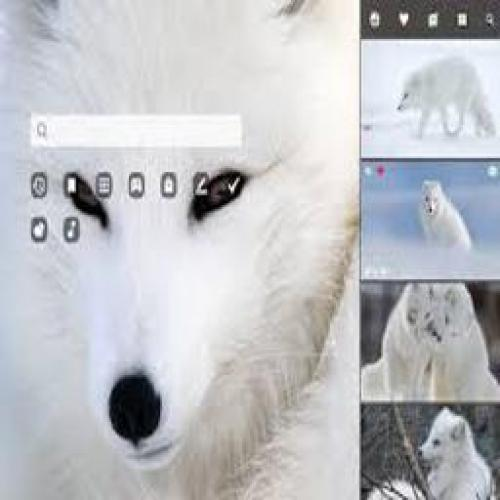arctic_fox-endangered: (11, 15, 353, 491), (370, 409, 490, 495), (394, 53, 497, 143), (366, 288, 439, 397), (434, 287, 494, 396), (419, 180, 474, 256)
